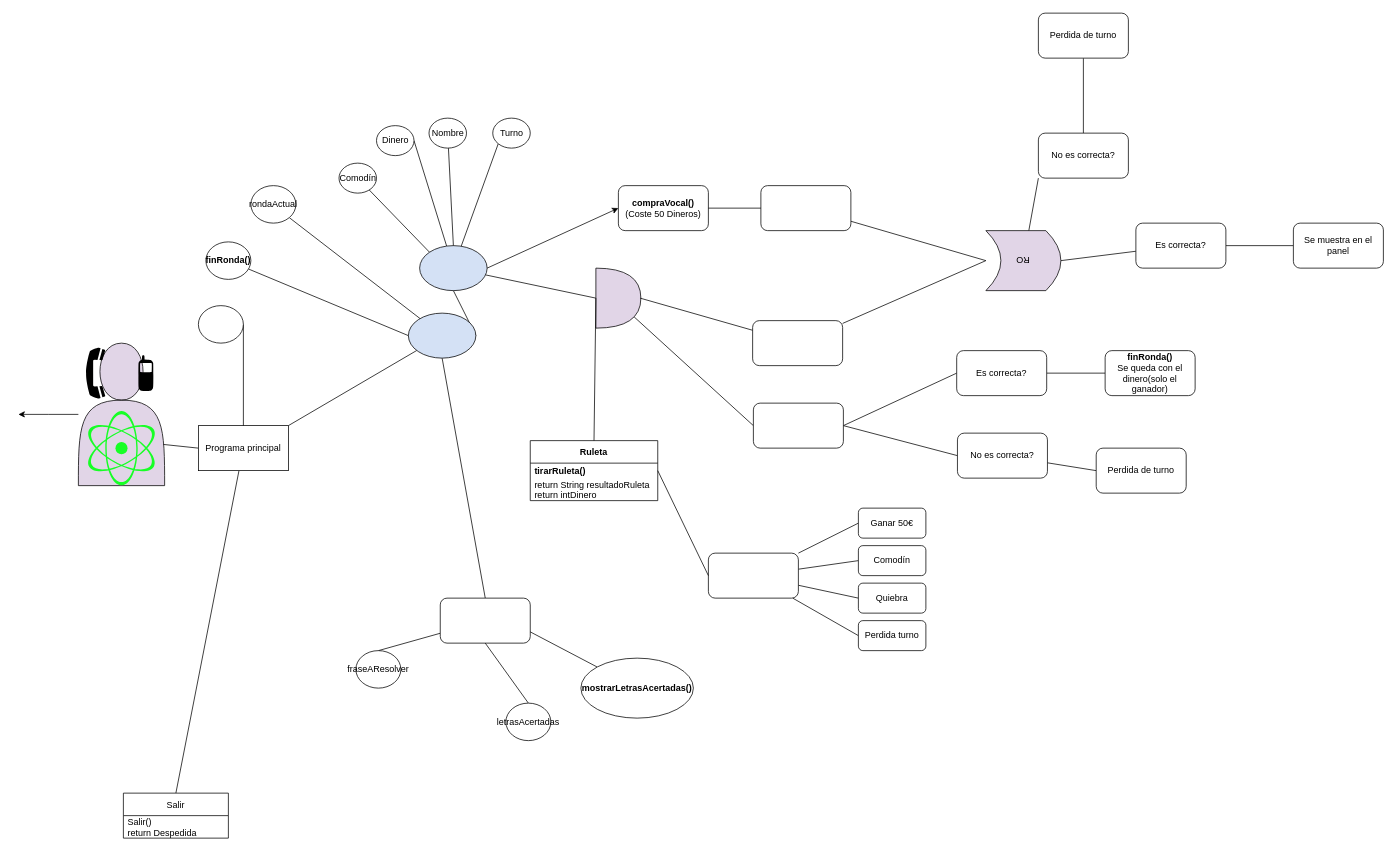
Image size: 1397x851. Some labels were removed from this diagram. Here are the shapes that lost their labels. From the top down, the centre of each, then its label:
At (x=805, y=208): "elegirVocal".
At (x=453, y=268): "Jugador".
At (x=618, y=297): "AND".
At (x=220, y=324): "limitRonda".
At (x=442, y=335): "Ronda".
At (x=797, y=343): "elegirConsonante".
At (x=798, y=425): "resolverFrase (fraseAResolver)".
At (x=753, y=575): "Tiene 4 paneles (por ahora)".
At (x=485, y=620): "Panel".
